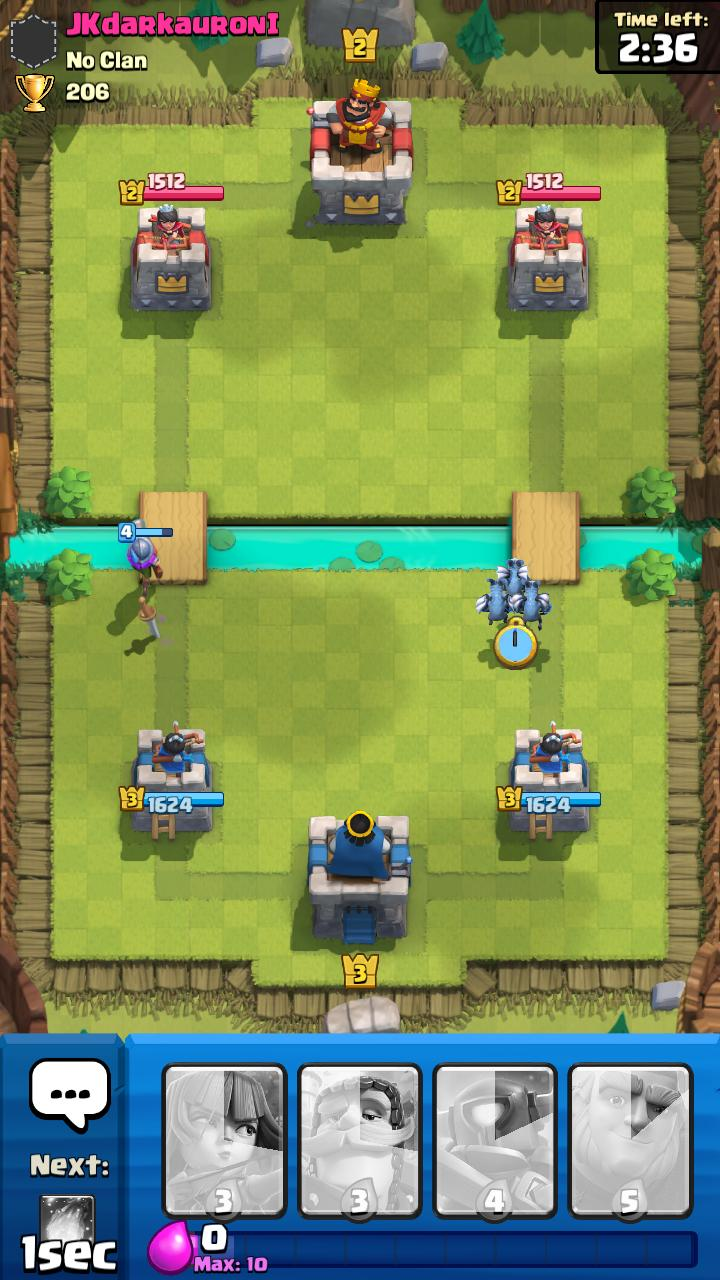ally: (118, 522, 173, 597), (509, 580, 552, 631), (475, 578, 515, 625), (494, 558, 531, 595)
